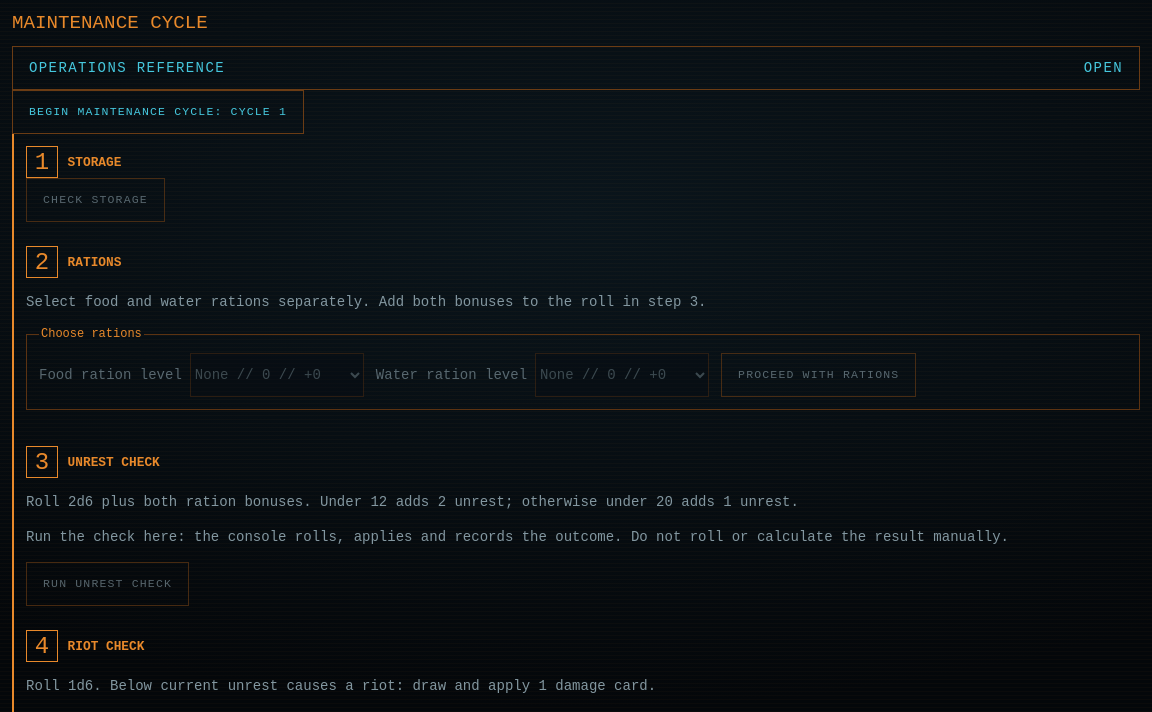
Scenario: collapses the complete operations reference while contextual maintenance guidance stays visible
Expected: the element "AEGIS maintenance reference" is not shown
Expected: the text "Select food and water rations separately. Add both bonuses to the roll in step 3." is shown, [26,294,706,310]
Click the button "Operations reference Open".
click(127, 68)  # box [12,46,1140,90]
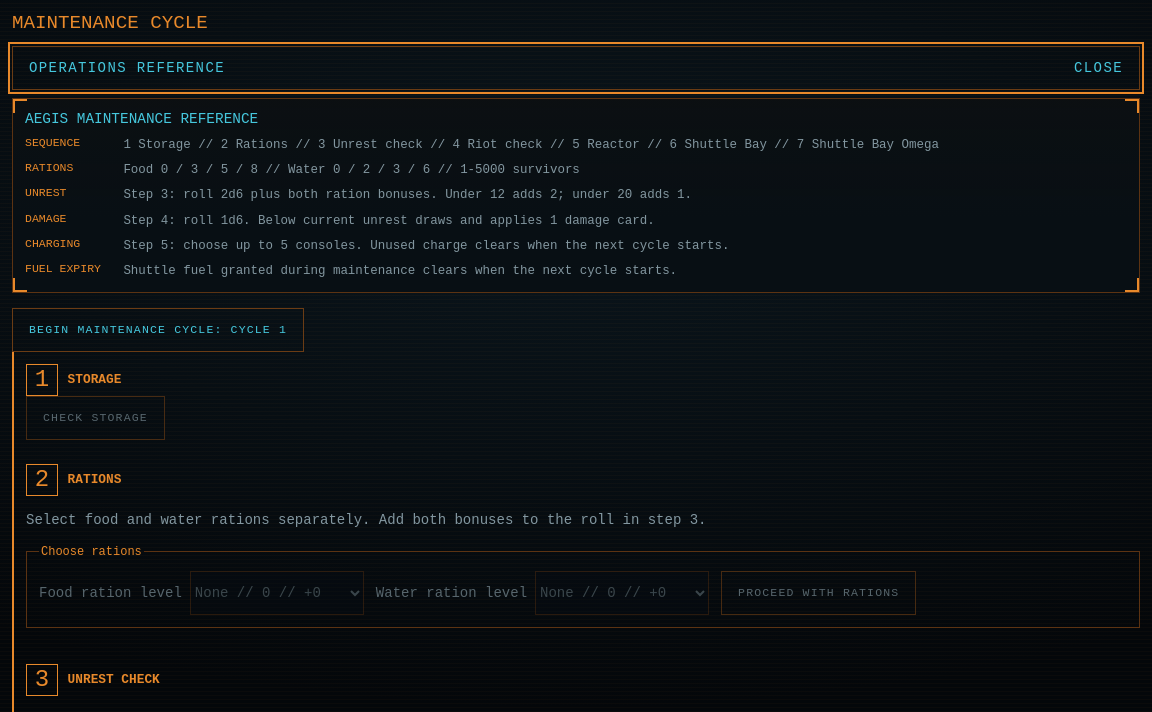
Result: the element "AEGIS maintenance reference" is shown at [12,98,1140,293]
Result: the text "Sequence" is shown at [25,136,80,149]
Result: the text "Rations" in the row of "0 / 3 / 5 / 8" is shown at [25,161,73,174]
Click the button "Operations reference Close".
click(127, 68)  # box [12,46,1140,90]
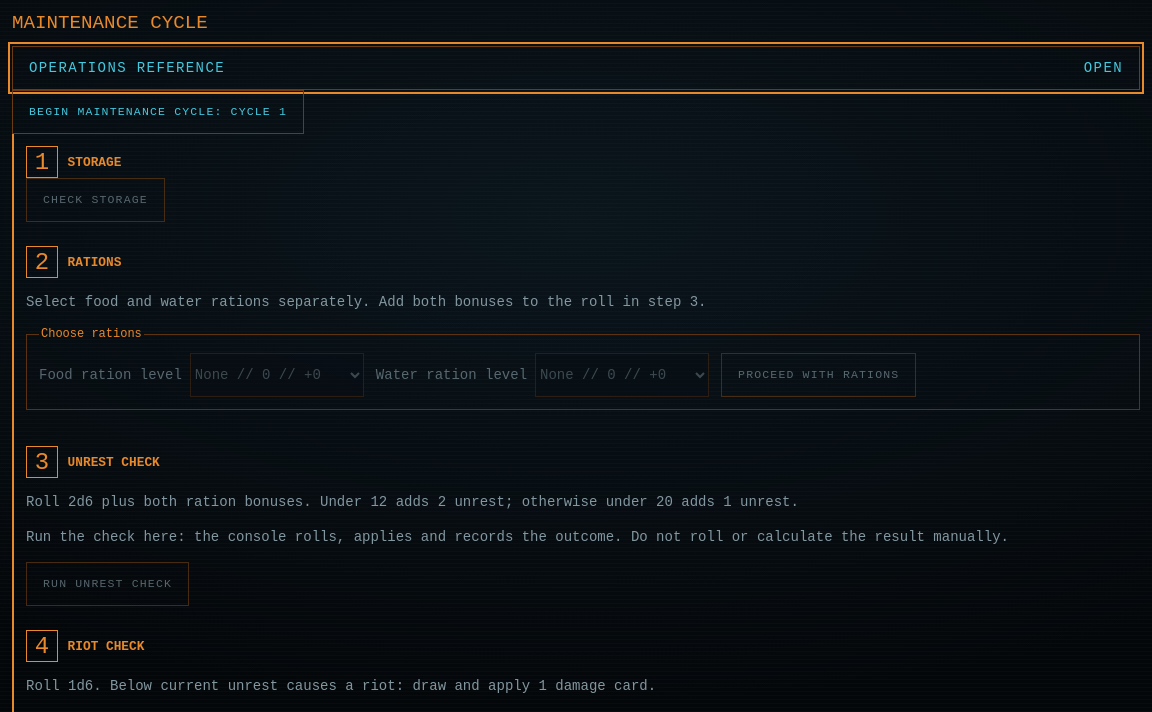
Result: the heading "AEGIS maintenance reference" is gone
